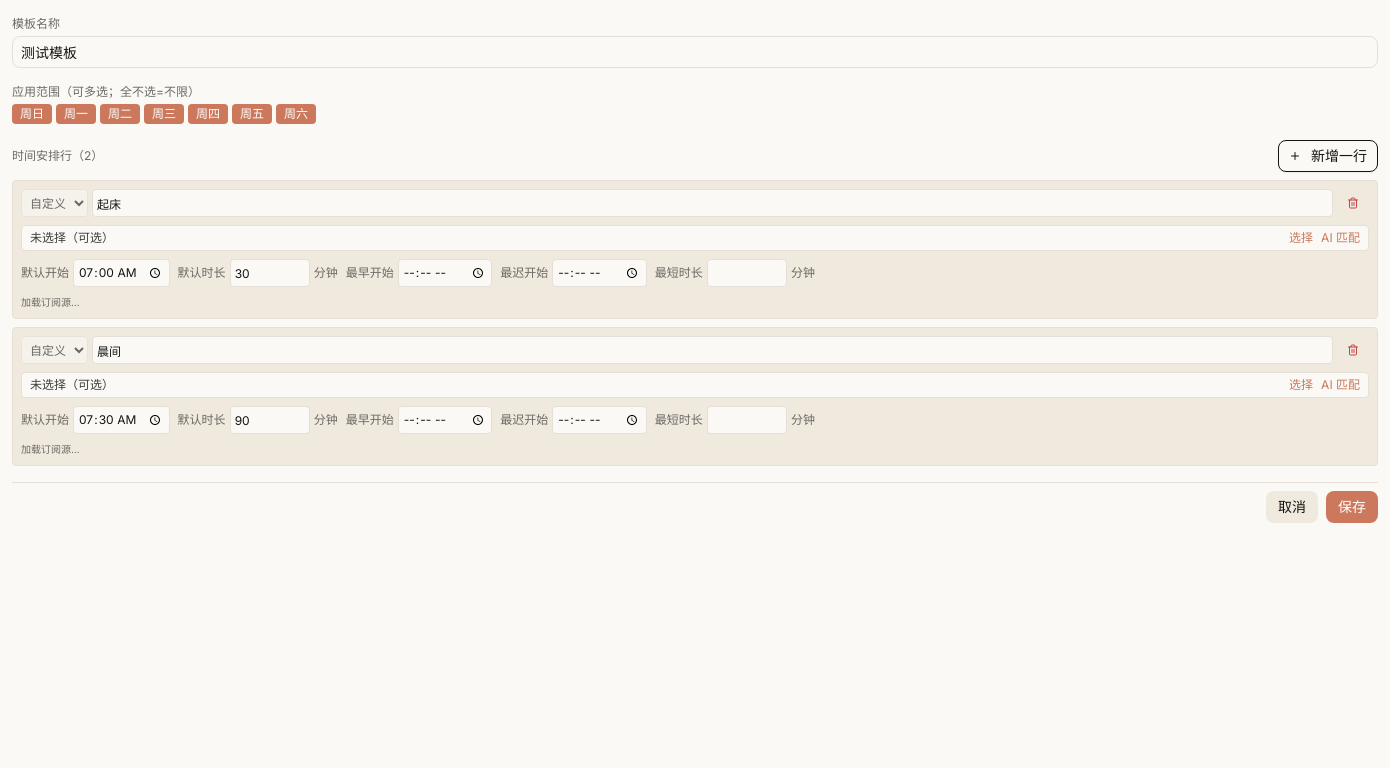
Test case: TemplateEditForm — 行增删 › 点删除行 trash 按钮 → 行数 -1
Click the 1st button named "删除行": (1353, 203) [1337,189,1369,217]
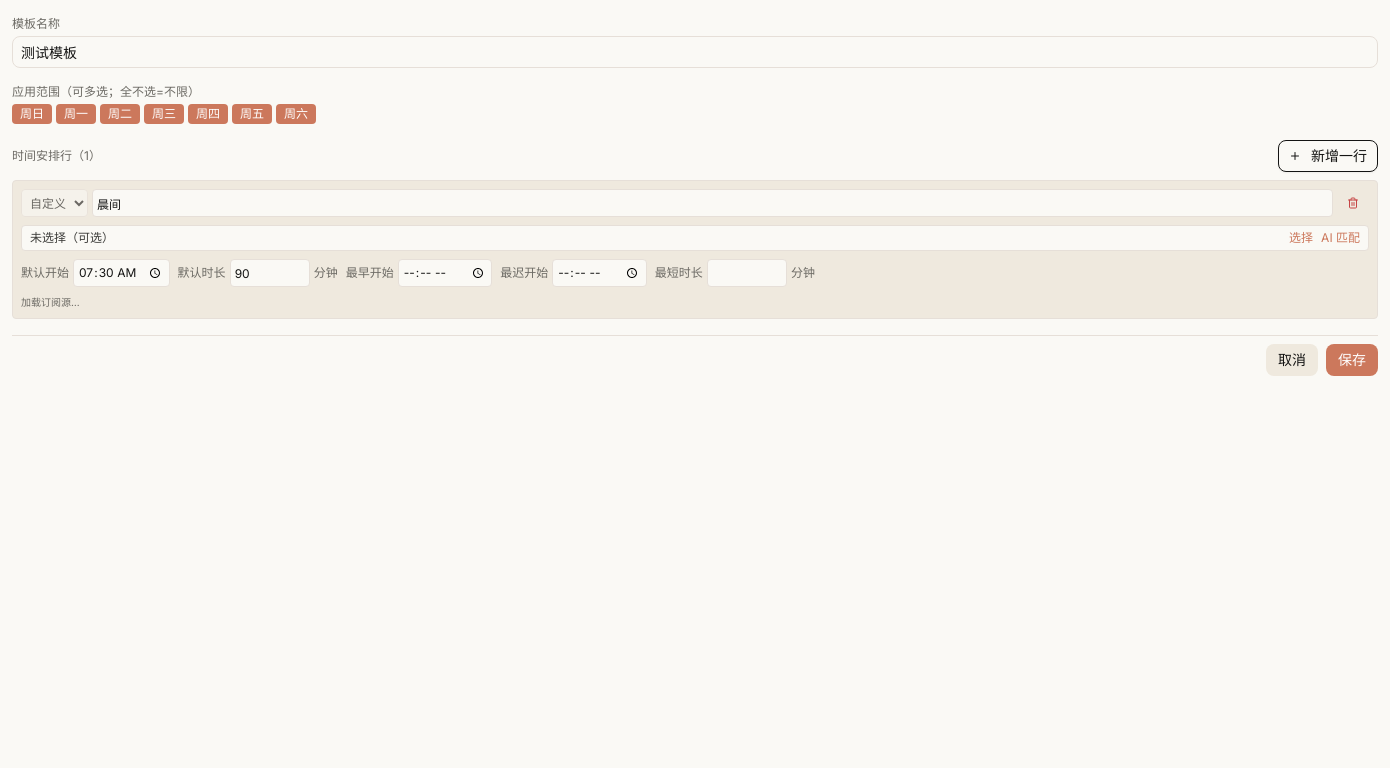
Expected: the number of buttons named "删除行" is 1, [1337,189,1369,217]
Result: the text "时间安排行（1）" is shown at [12,148,101,164]
